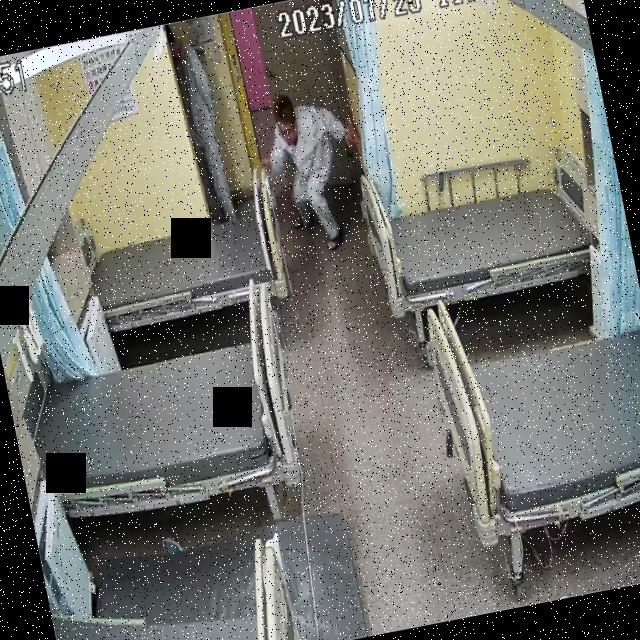bed: (419, 263, 640, 545), (20, 326, 307, 526), (360, 158, 612, 320), (84, 200, 288, 332)
danger: (258, 90, 375, 256)
patient: (258, 89, 374, 253), (162, 17, 240, 226)
stand: (163, 17, 239, 225)
